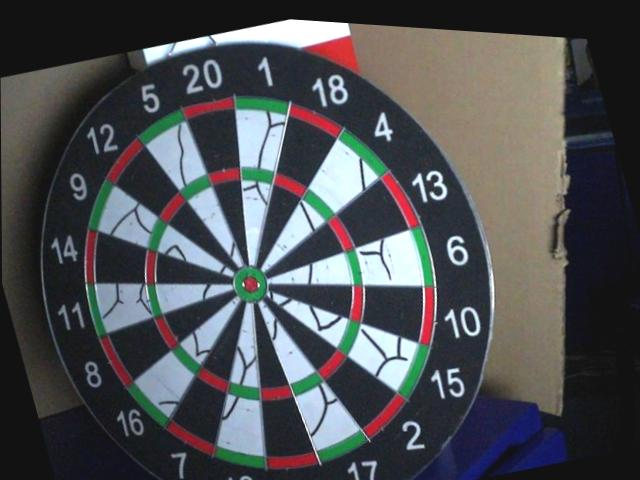triple_1: (241, 167, 276, 183)
triple_12: (159, 194, 184, 222)
triple_15: (341, 323, 360, 352)
triple_17: (295, 371, 320, 393)
triple_18: (275, 176, 307, 196)
triple_2: (318, 350, 343, 377)
triple_20: (211, 168, 239, 184)
triple_3: (262, 381, 291, 404)
triple_5: (186, 178, 209, 197)
